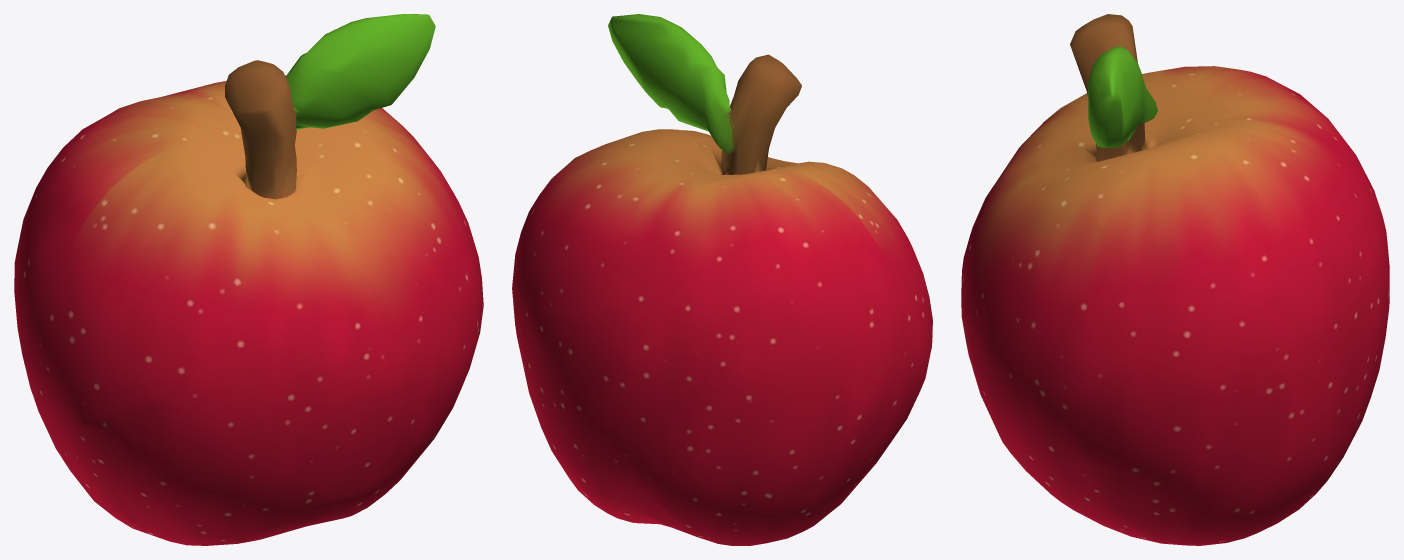
File: apple.glb
The picture shows the model from 3 angles, left to right: view 1: azimuth 30°, elevation 25°; view 2: azimuth 150°, elevation 25°; view 3: azimuth 270°, elevation 25°; orthographic projection. The views are drawn at different scales.
Parts seen in each view (by area): view 1: tripo_node_b93fc784-799d-4fc9-b3ba-6ab89b33ffd0; view 2: tripo_node_b93fc784-799d-4fc9-b3ba-6ab89b33ffd0; view 3: tripo_node_b93fc784-799d-4fc9-b3ba-6ab89b33ffd0.
Part boxes in pixels (<box>): tripo_node_b93fc784-799d-4fc9-b3ba-6ab89b33ffd0: <box>14,14,483,545</box>; tripo_node_b93fc784-799d-4fc9-b3ba-6ab89b33ffd0: <box>512,14,932,545</box>; tripo_node_b93fc784-799d-4fc9-b3ba-6ab89b33ffd0: <box>961,14,1389,545</box>.
Bounding box in the file's own units: 0.8379 × 0.9806 × 0.7576.
1 material, 1 textured.
